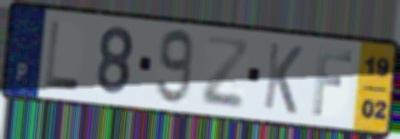8: (95, 25, 136, 98)
9: (152, 27, 196, 108)
F: (310, 46, 356, 118)
K: (261, 39, 305, 117)
L: (43, 18, 83, 92)
Z: (199, 33, 252, 112)
